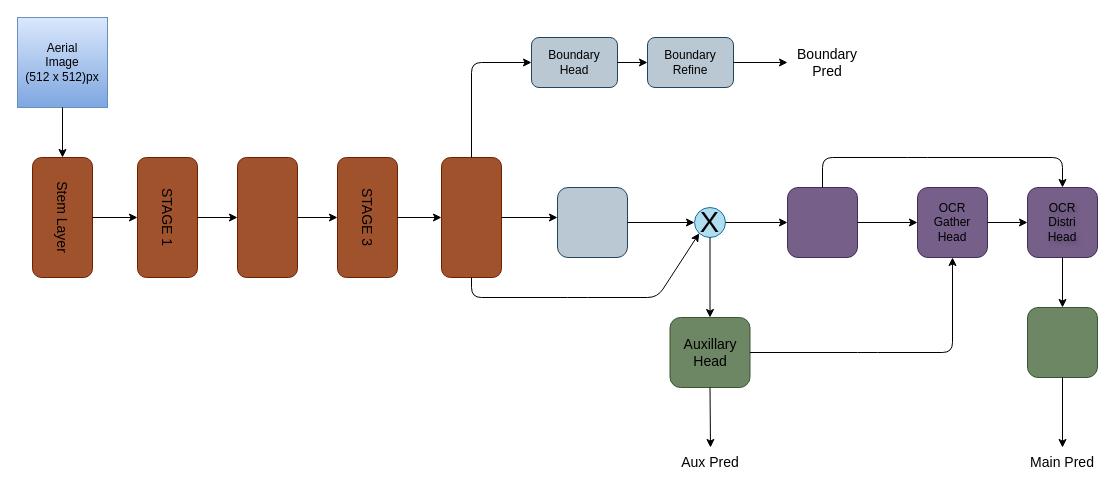
Image size: 1115x495. Some labels were removed from this diagram. Each missing label, with the box of its shape:
Cls Head: (1026, 306, 1098, 378)
Edge Attention: (556, 186, 628, 258)
OCR 3x3 Conv: (786, 186, 858, 258)
STAGE 2: (236, 156, 298, 278)
STAGE 4: (440, 156, 502, 278)
